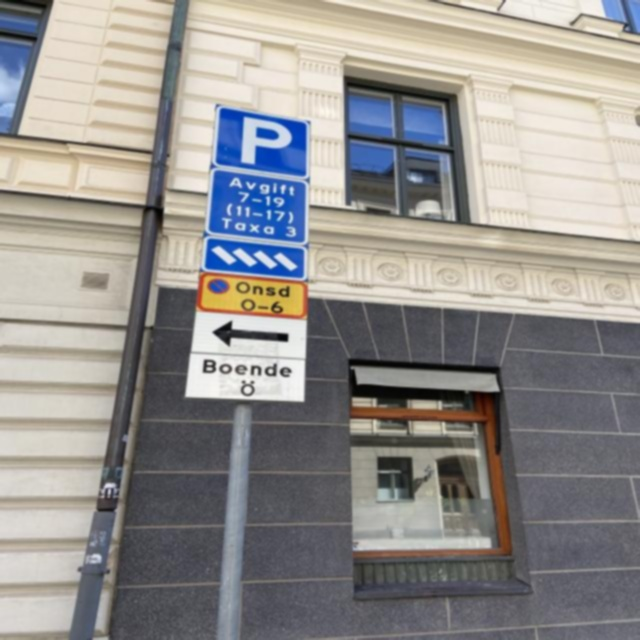P-skylt: (214, 104, 310, 179)
